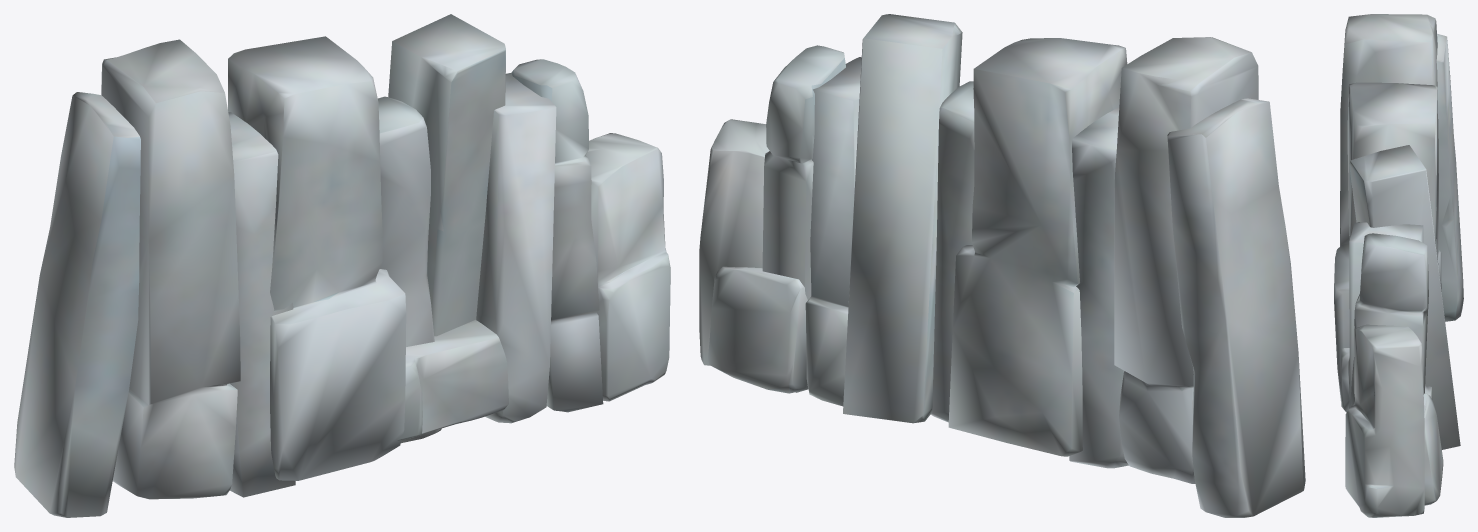
File: P_CubicCliff06.obj
The picture shows the model from 3 angles, left to right: view 1: azimuth 30°, elevation 25°; view 2: azimuth 150°, elevation 25°; view 3: azimuth 270°, elevation 25°; orthographic projection. The views are drawn at different scales.
Size of the model in its own units: 31.51 by 20.77 by 7.65.
